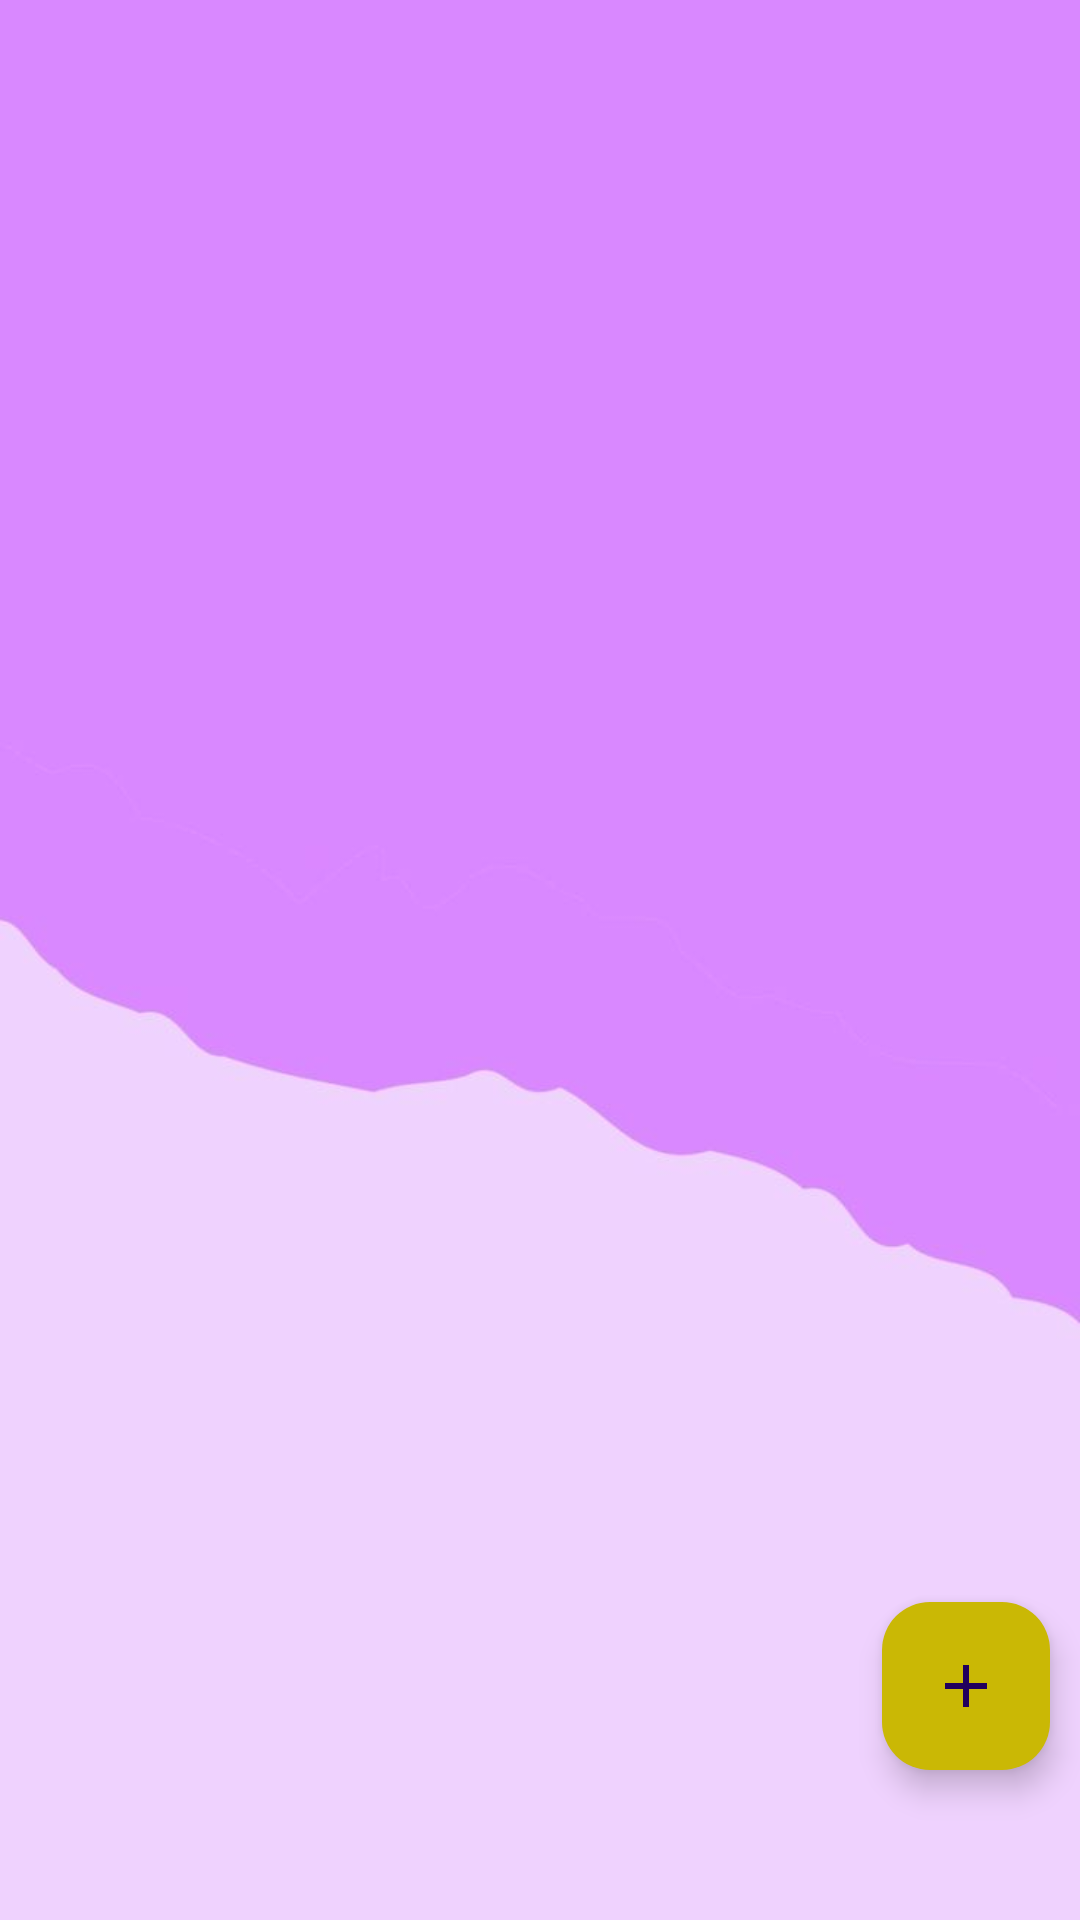

Icon click points for this 1080*1920 phone screenshot, format point (x, y):
add: point (966, 1686)
